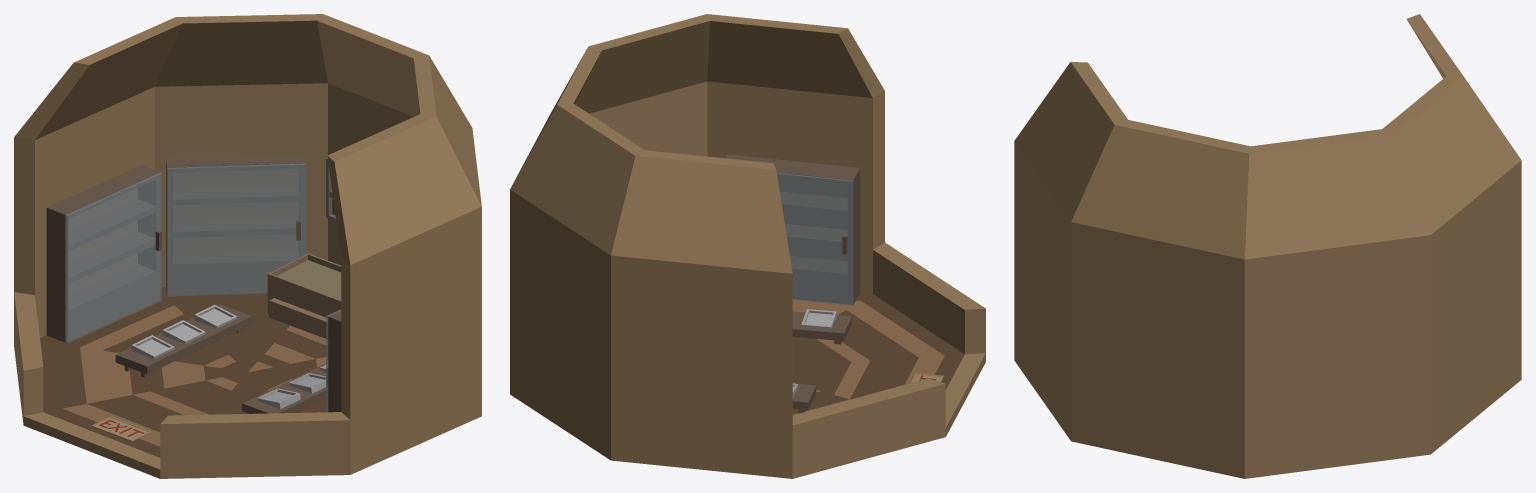
File: INSIDE THE SHOP.fbx
3 renders of one model, left to right at view 1: azimuth 30°, elevation 25°; view 2: azimuth 150°, elevation 25°; view 3: azimuth 270°, elevation 25°, orthographic. The views are drawn at different scales.
Parts seen in each view (by area): view 1: pCube1, pCube10 (×2), pCube9 (×3), pCube17, pCube5 (×2), pCube16 (×2), pCube14 (×2), pCube21, pCube15; view 2: pCube1, pCube9, pCube10, pCube5 (×2), pCube16; view 3: pCube1.
Boxes of the visible parts, left/top/right/bottom form: pCube1: left=14, top=14, right=481, bottom=478; pCube10 (×2): left=65, top=163, right=306, bottom=343; pCube9 (×3): left=46, top=156, right=341, bottom=412; pCube17: left=267, top=253, right=341, bottom=339; pCube5 (×2): left=115, top=304, right=327, bottom=413; pCube16 (×2): left=194, top=304, right=300, bottom=409; pCube14 (×2): left=162, top=320, right=325, bottom=393; pCube21: left=91, top=416, right=151, bottom=441; pCube15: left=131, top=335, right=174, bottom=358; pCube1: left=510, top=14, right=985, bottom=478; pCube9: left=726, top=154, right=860, bottom=304; pCube10: left=777, top=172, right=853, bottom=305; pCube5 (×2): left=792, top=311, right=851, bottom=413; pCube16: left=801, top=309, right=836, bottom=329; pCube1: left=1014, top=14, right=1521, bottom=478.
Size of the model in its own units: 40.95 by 26.66 by 40.31.
